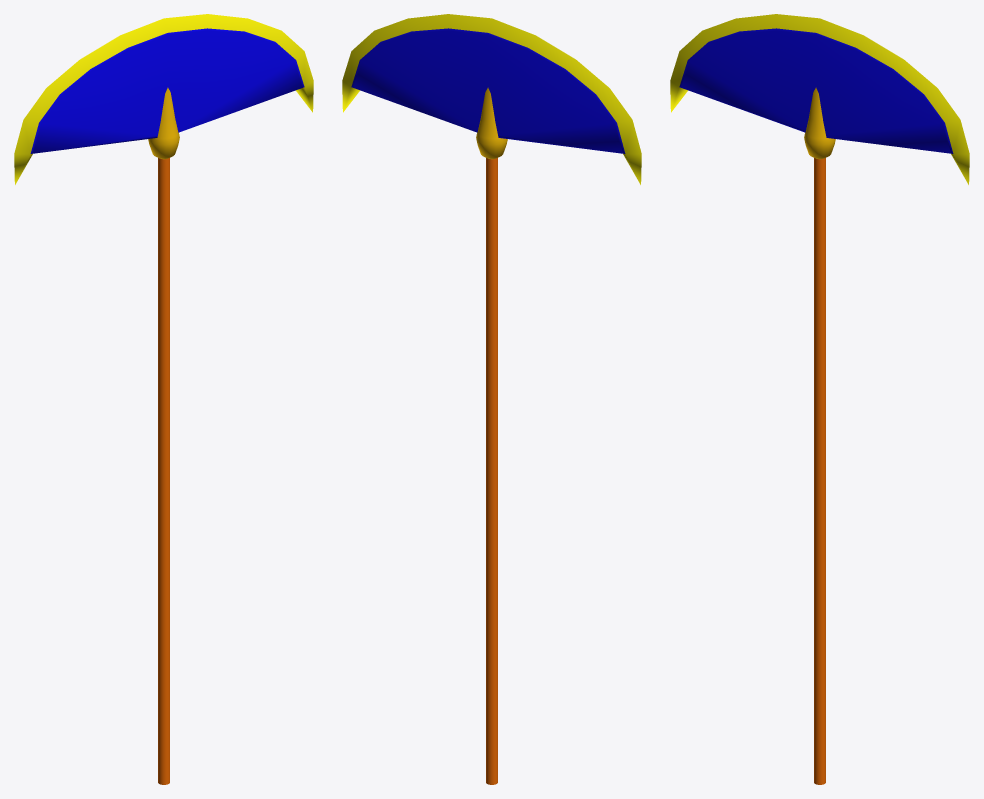
File: axe.fbx
3 views of the same model, side by side, from view 1: azimuth 30°, elevation 25°; view 2: azimuth 150°, elevation 25°; view 3: azimuth 330°, elevation 25° (orthographic).
Visible parts, largest first — view 1: Axe_1; view 2: Axe_1; view 3: Axe_1.
Part boxes in pixels (bbox=[...]): Axe_1: bbox=[14, 14, 313, 784]; Axe_1: bbox=[342, 14, 641, 784]; Axe_1: bbox=[670, 14, 969, 784].
Size of the model in its own units: 131 by 318 by 12.1.
